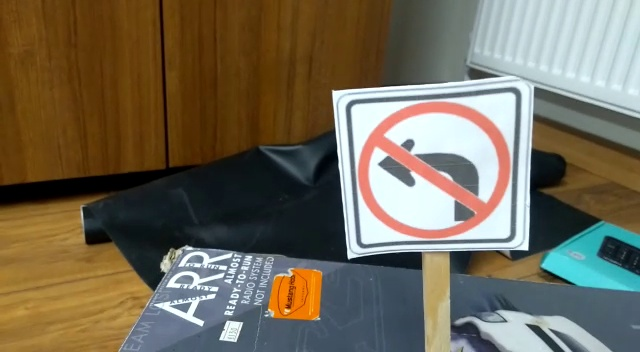sola_donulmez: (353, 89, 510, 252)
